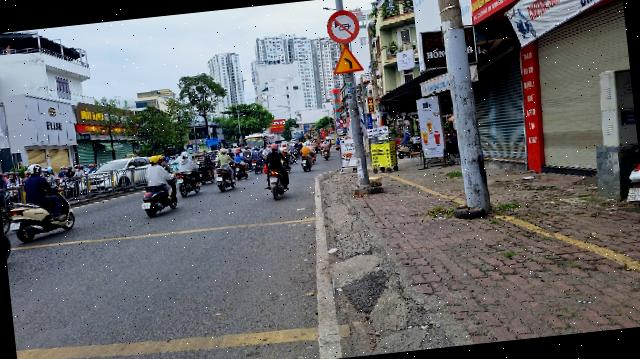cam-bop-coi: (325, 7, 362, 46)
cho-ngoat-nguy-hiem-ben-trai: (331, 43, 364, 74)
